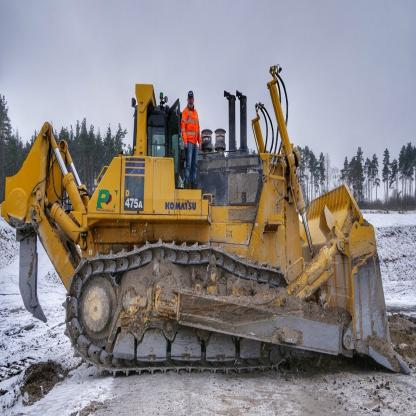bull_dozer/loader/grader: (5, 60, 416, 383)
